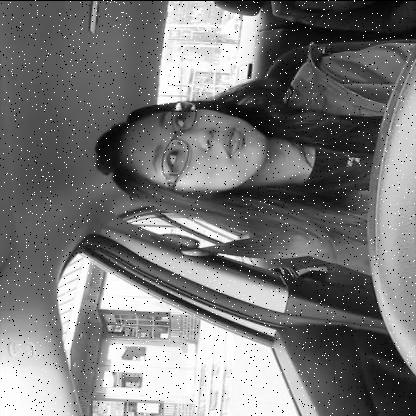seatbelt: (87, 89, 396, 257)
